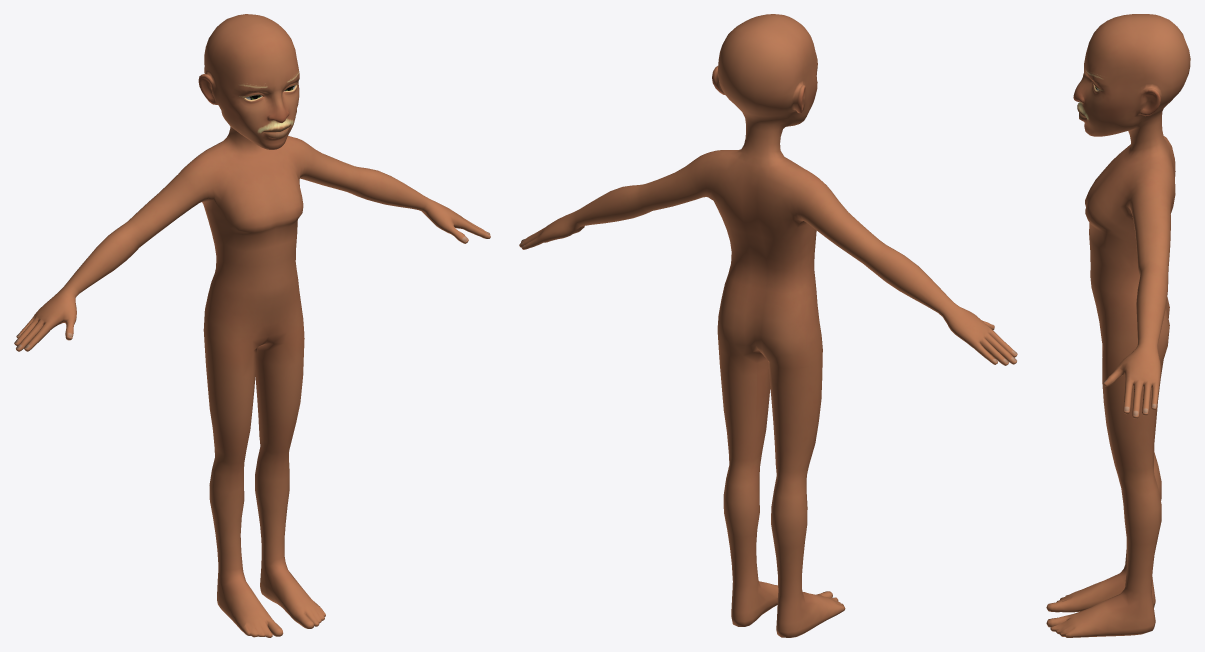
File: frame_0024.glb
3 views of the same model, side by side, from view 1: azimuth 30°, elevation 25°; view 2: azimuth 150°, elevation 25°; view 3: azimuth 270°, elevation 25° (orthographic). The views are drawn at different scales.
Visible parts, largest first — view 1: frame_0024_head_geo; view 2: frame_0024_head_geo; view 3: frame_0024_head_geo.
Boxes of the visible parts, x1,y1,x2,y2 form: frame_0024_head_geo: [14, 14, 490, 637]; frame_0024_head_geo: [519, 14, 1017, 637]; frame_0024_head_geo: [1046, 14, 1190, 637].
Bounding box in the file's own units: 1.28 × 1.5 × 0.3253.
Materials: 3 (3 with a texture image).
